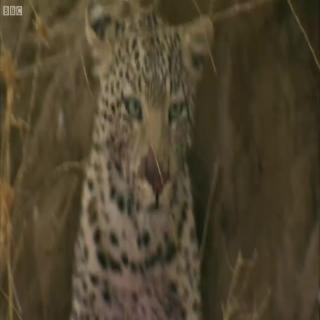Leopard: (68, 0, 218, 310)
